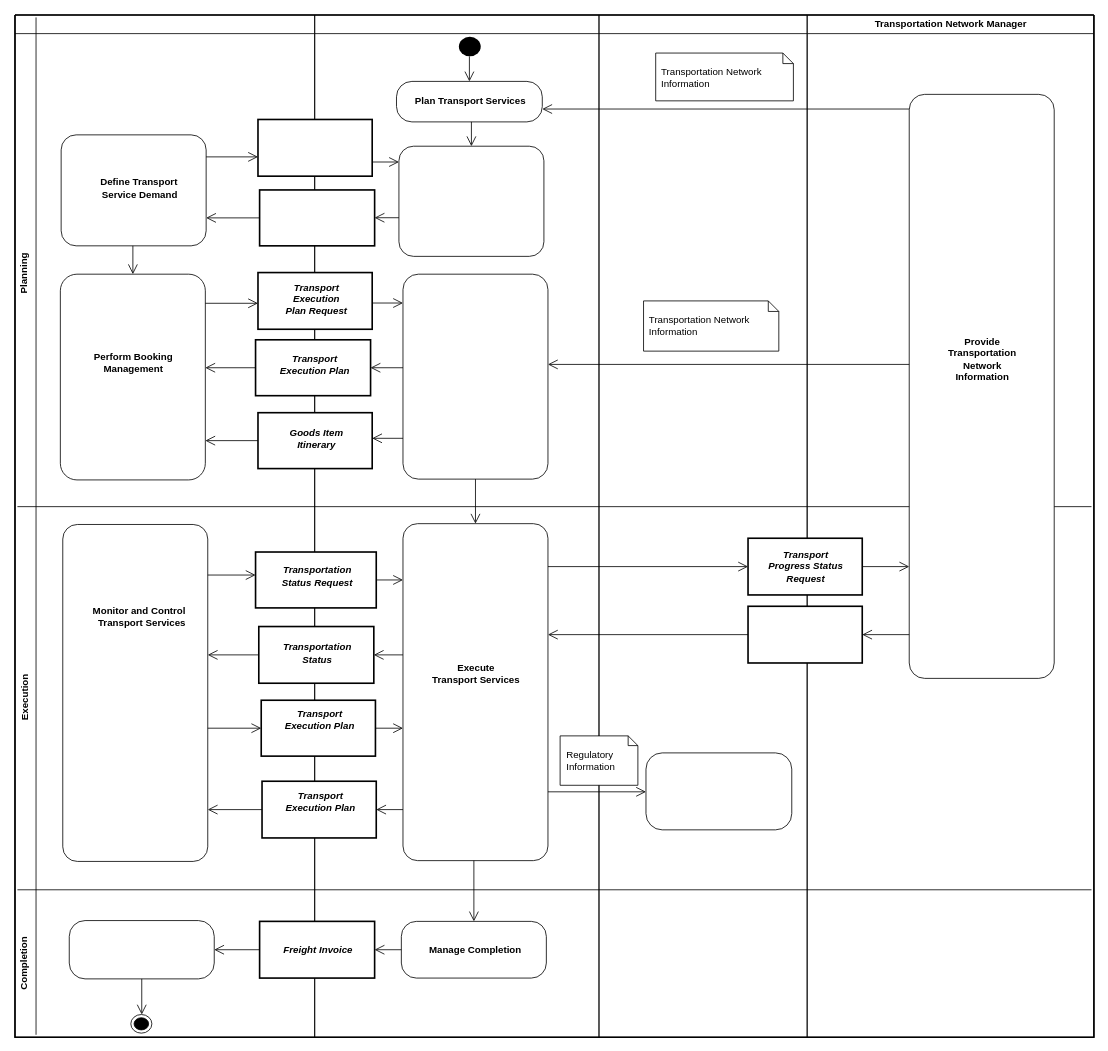
Image size: 1108x1051. Some labels were removed from this diagram. Here are the shapes that lost their labels. From the top down, the box of each, then its label:
(257, 118, 373, 177): Transport Service Description Request
(258, 189, 375, 246): Transport Service Description
(398, 145, 544, 256): Announce Transport Services
(402, 273, 548, 479): Perform Order Management
(14, 14, 315, 1037): Transport User
(314, 14, 599, 1037): Transport Service Provider
(598, 14, 807, 1037): Transport Regulator
(747, 605, 863, 663): Transport Progress Status
(645, 752, 792, 830): Perform Compliance Management
(68, 920, 214, 979): Finalize Transport Services
